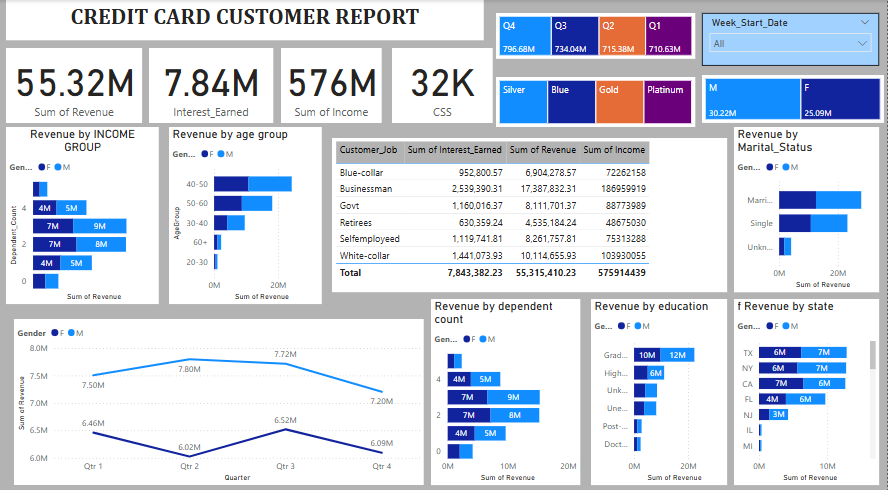

This screenshot's page, from the dashboard's own definition file:
{"tool":"powerbi","page":{"name":"customer report","canvas":[1280,720],"ordinal":1},"visuals":[{"type":"textbox","box":[10.1,0,688.3,57.6],"z":0},{"type":"lineChart","fields":{"Category":["credit_card.Week_Start_Date.Variation.Date Hierarchy.Year","credit_card.Week_Start_Date.Variation.Date Hierarchy.Quarter","credit_card.Week_Start_Date.Variation.Date Hierarchy.Month","credit_card.Week_Start_Date.Variation.Date Hierarchy.Day"],"Y":["Sum(credit_card.Revenue)"],"Series":["customer.Gender"]},"box":[21.6,459.4,590.4,239],"z":1000},{"type":"barChart","title":" Revenue by INCOME GROUP","fields":{"Category":["customer.Dependent_Count"],"Y":["Sum(credit_card.Revenue)"],"Series":["customer.Gender"]},"box":[10.1,182.9,220.3,254.9],"z":2000},{"type":"barChart","title":"Revenue by dependent count","fields":{"Y":["Sum(credit_card.Revenue)"],"Category":["customer.Dependent_Count"],"Series":["customer.Gender"]},"box":[622.1,430.6,214.6,267.8],"z":3000},{"type":"barChart","title":"Revenue by age group","fields":{"Category":["customer.AgeGroup"],"Y":["Sum(credit_card.Revenue)"],"Series":["customer.Gender"]},"box":[244.8,182.9,220.3,254.9],"z":4000},{"type":"barChart","title":"Revenue by education","fields":{"Category":["customer.Education_Level"],"Y":["Sum(credit_card.Revenue)"],"Series":["customer.Gender"]},"box":[852.5,430.6,195.8,267.8],"z":5000},{"type":"barChart","title":"f Revenue by state","fields":{"Y":["Sum(credit_card.Revenue)"],"Category":["customer.state_cd"],"Series":["customer.Gender"]},"box":[1058.4,430.6,208.8,267.8],"z":6000},{"type":"tableEx","fields":{"Values":["customer.Customer_Job","Sum(credit_card.Interest_Earned)","Sum(credit_card.Revenue)","Sum(customer.Income)"]},"box":[479.5,198.7,568.8,221.8],"z":7000},{"type":"barChart","title":"Revenue by Marital_Status","fields":{"Category":["customer.Marital_Status"],"Y":["Sum(credit_card.Revenue)"],"Series":["customer.Gender"]},"box":[1058.4,182.9,208.8,237.6],"z":8000},{"type":"treemap","fields":{"Group":["credit_card.Qtr"],"Values":["Avg(customer.Client_Num)"]},"box":[715.7,18.7,286.6,66.2],"z":9000},{"type":"treemap","fields":{"Group":["credit_card.Card_Category"],"Values":["Avg(credit_card.Client_Num)"]},"box":[715.7,110.9,286.6,72],"z":10000},{"type":"slicer","fields":{"Values":["credit_card.Week_Start_Date"]},"box":[1012.3,18.7,254.9,76.3],"z":11000},{"type":"treemap","fields":{"Group":["customer.Gender"],"Values":["Sum(credit_card.Revenue)"]},"box":[1012.3,108,262.1,69.1],"z":12000},{"type":"card","fields":{"Values":["Sum(credit_card.Revenue)"]},"box":[10.1,69.1,195.8,108],"z":13000},{"type":"card","fields":{"Values":["Sum(credit_card.Interest_Earned)"]},"box":[216,69.1,178.6,108],"z":14000},{"type":"card","fields":{"Values":["Sum(customer.Income)"]},"box":[406.1,69.1,145.4,108],"z":15000},{"type":"card","fields":{"Values":["Sum(customer.Cust_Satisfaction_Score)"]},"box":[565.9,69.1,145.4,108],"z":16000}]}

Visuals, with their boxes in screenshot pixels (x1, y1, x2, y2), scaled from the page's 1280x720 canvas onto the 888x490 screenshot:
textbox: l=7, t=0, r=485, b=39
lineChart - credit_card.Week_Start_Date.Variation.Date Hierarchy.Year x credit_card.Week_Start_Date.Variation.Date Hierarchy.Quarter: l=15, t=313, r=425, b=475
" Revenue by INCOME GROUP" barChart: l=7, t=124, r=160, b=298
"Revenue by dependent count" barChart: l=432, t=293, r=580, b=475
"Revenue by age group" barChart: l=170, t=124, r=323, b=298
"Revenue by education" barChart: l=591, t=293, r=727, b=475
"f Revenue by state" barChart: l=734, t=293, r=879, b=475
tableEx - customer.Customer_Job x Sum(credit_card.Interest_Earned): l=333, t=135, r=727, b=286
"Revenue by Marital_Status" barChart: l=734, t=124, r=879, b=286
treemap - credit_card.Qtr x Avg(customer.Client_Num): l=497, t=13, r=695, b=58
treemap - credit_card.Card_Category x Avg(credit_card.Client_Num): l=497, t=75, r=695, b=124
slicer - credit_card.Week_Start_Date: l=702, t=13, r=879, b=65
treemap - customer.Gender x Sum(credit_card.Revenue): l=702, t=74, r=884, b=121
card - Sum(credit_card.Revenue): l=7, t=47, r=143, b=121
card - Sum(credit_card.Interest_Earned): l=150, t=47, r=274, b=121
card - Sum(customer.Income): l=282, t=47, r=383, b=121
card - Sum(customer.Cust_Satisfaction_Score): l=393, t=47, r=493, b=121
